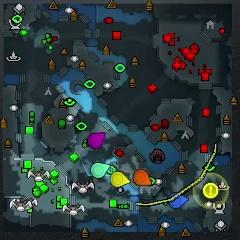Other: (204, 182, 219, 199)
p1: (168, 193, 188, 208)
p2: (91, 163, 110, 178)
p3: (87, 132, 106, 149)
p4: (111, 172, 130, 187)
p5: (134, 170, 152, 185)
